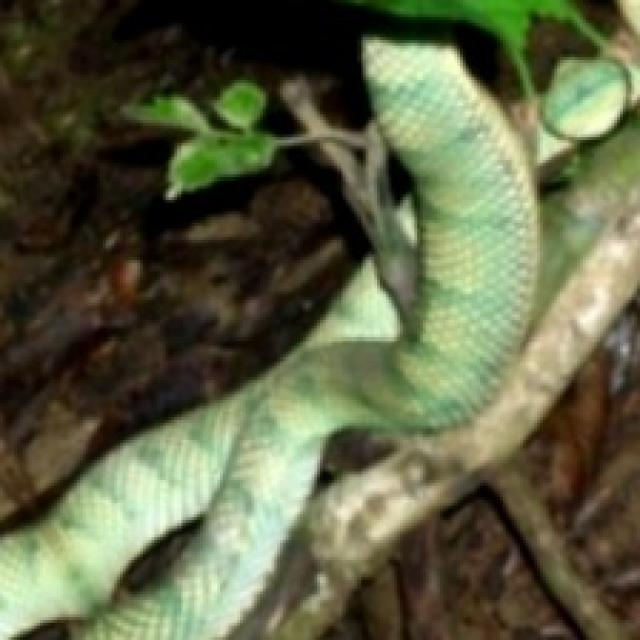north ph temple pitviper: (3, 37, 637, 637), (86, 37, 534, 637), (3, 426, 189, 634)
